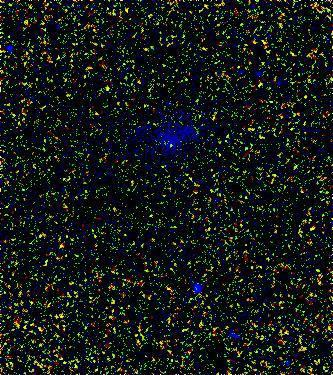star: (158, 132, 188, 162)
